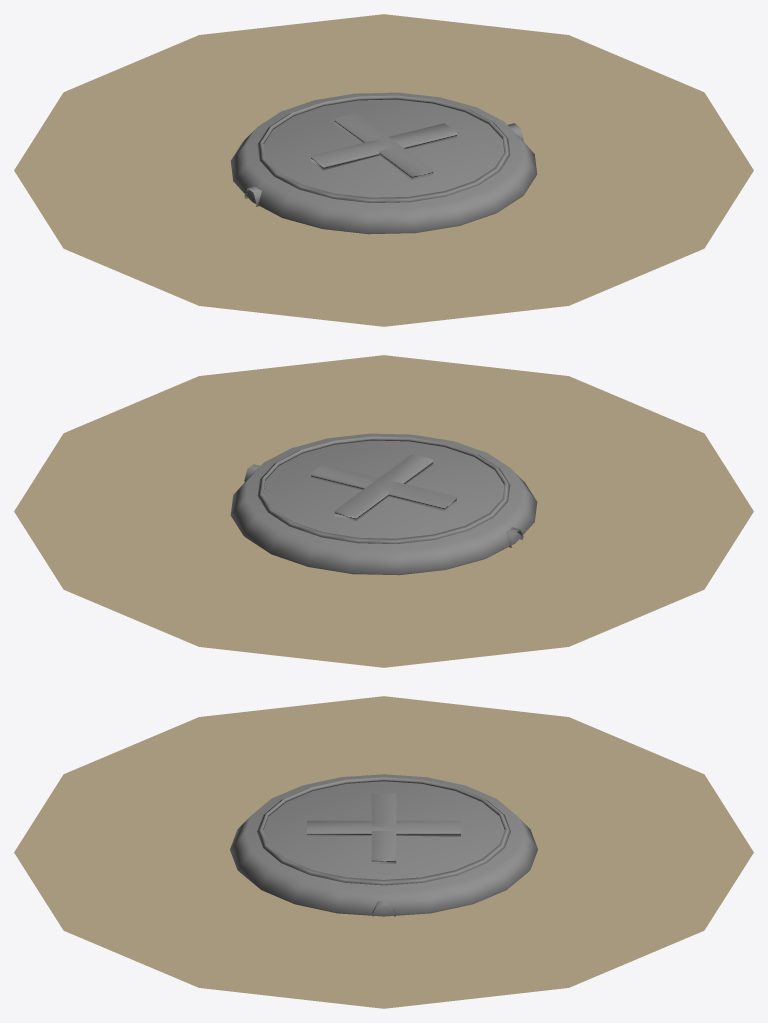
The model's file is lake-bulla-shallows-0.glb.
The picture shows the model from 3 angles, top to bottom: view 1: azimuth 30°, elevation 25°; view 2: azimuth 150°, elevation 25°; view 3: azimuth 270°, elevation 25°; orthographic projection.
Parts seen in each view (by area): view 1: lake-bulla-shallows-0; view 2: lake-bulla-shallows-0; view 3: lake-bulla-shallows-0.
Boxes of the visible parts, <box> form: lake-bulla-shallows-0: <box>14,14,753,326</box>; lake-bulla-shallows-0: <box>14,355,753,667</box>; lake-bulla-shallows-0: <box>14,696,753,1008</box>.
Bounding box in the file's own units: 0.096 × 0.0058 × 0.096.
